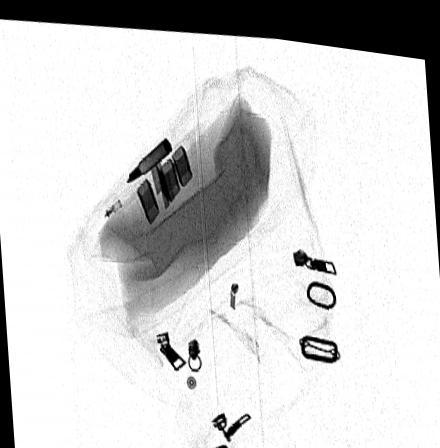Bullet: (124, 132, 173, 180)
